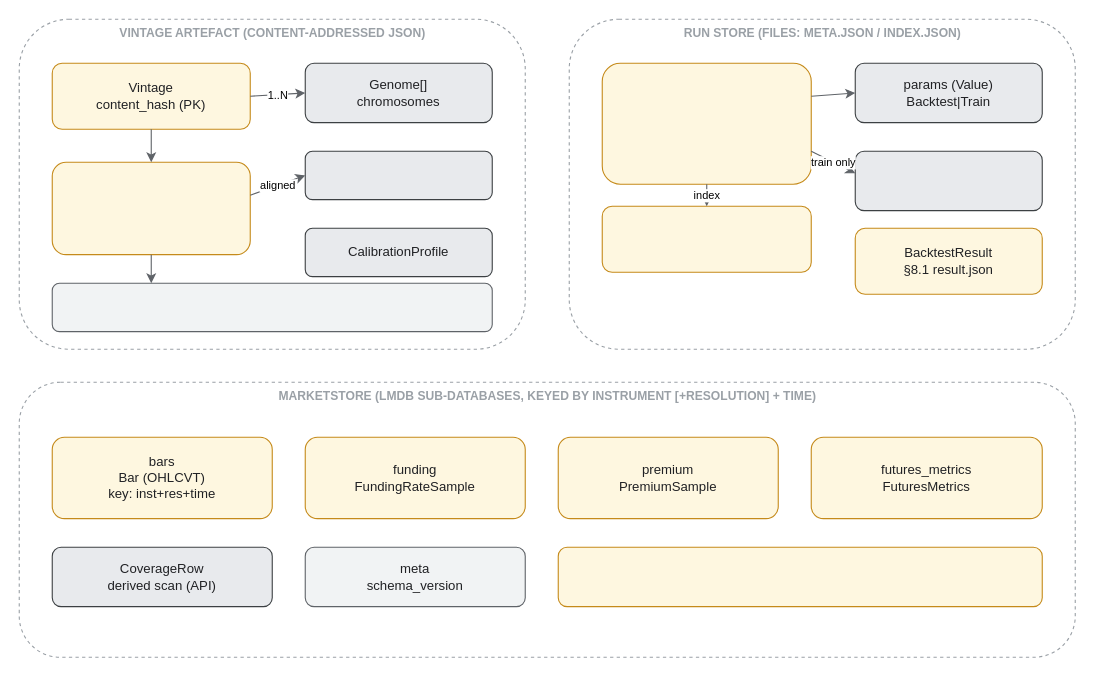
Some shapes in this 1095 by 677 pixel diagram are drawn without their labels. The box of each missing label's shape, as (x1, y1, x2, y2) in pixels:
IndexEntry id·type·created_ms·label: (601, 205, 811, 272)
Lineage config_hash · code_commit · seeds: (51, 282, 492, 332)
RunMeta id (PK) · type · status progress · created_ms exit · error · artifacts[]: (601, 62, 811, 184)
SyntheticStore IndicatorKey → indicator/bar cache · lineage-tagged: (557, 546, 1042, 607)
TrainProgress gen/ensemble/gate: (854, 150, 1042, 211)
VintageContent format_version vintage_id · worst_case_loss: (51, 161, 250, 255)
weights: f64[]: (304, 150, 492, 200)
